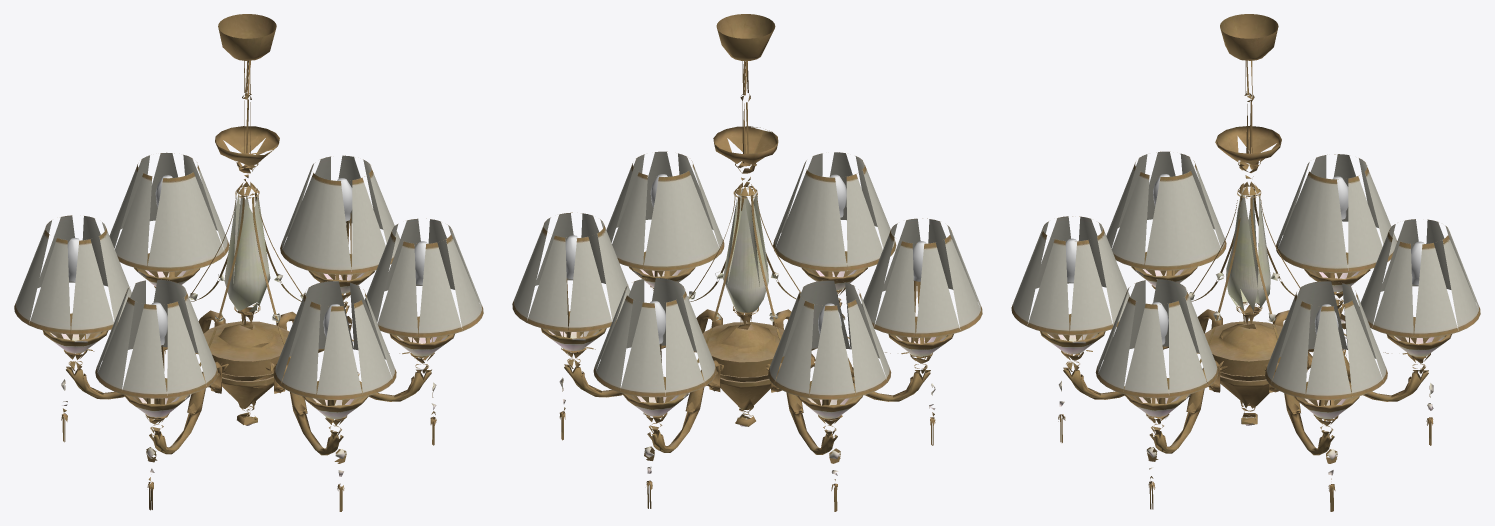
File: Chandelier_01_1k.glb
3 views of the same model, side by side, from view 1: azimuth 30°, elevation 25°; view 2: azimuth 150°, elevation 25°; view 3: azimuth 270°, elevation 25° (orthographic).
Visible parts, largest first — view 1: Line008000, Line008000_1; view 2: Line008000, Line008000_1; view 3: Line008000, Line008000_1.
Part boxes in pixels (x1,y1,x2,y2): Line008000: [14, 14, 483, 511]; Line008000_1: [67, 175, 427, 345]; Line008000: [512, 14, 982, 511]; Line008000_1: [565, 174, 926, 343]; Line008000: [1011, 14, 1480, 511]; Line008000_1: [1065, 174, 1424, 344].
Bounding box in the file's own units: 0.7465 × 0.7983 × 0.8155.
Materials: 2 (1 with a texture image).
